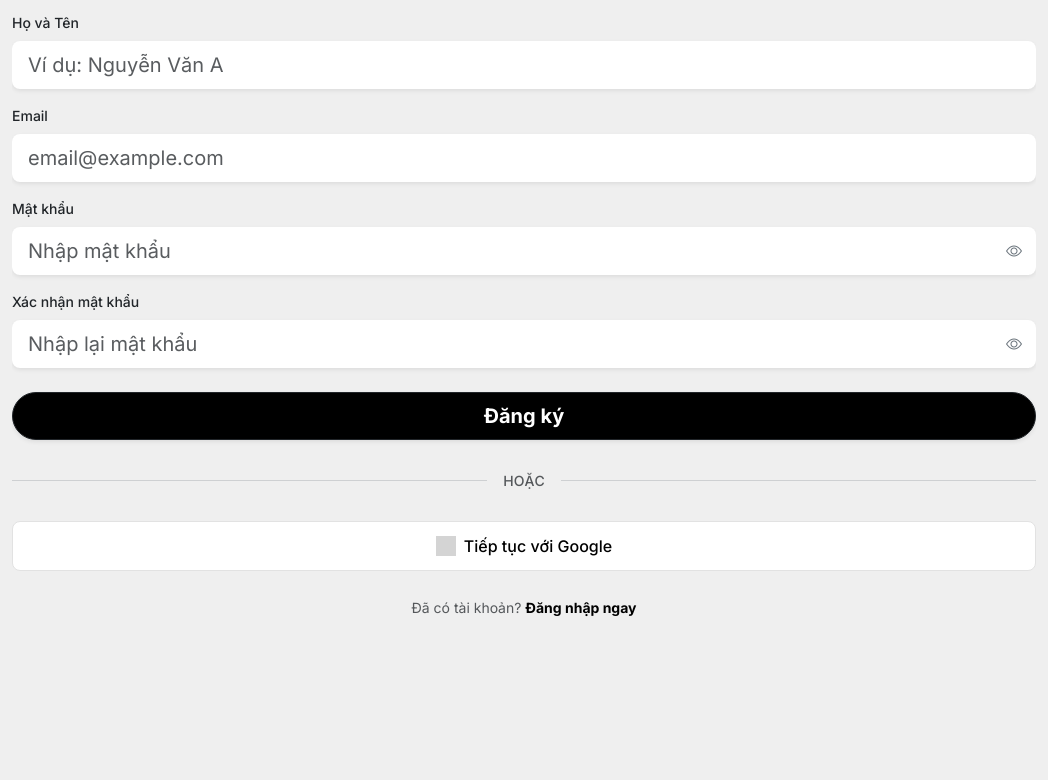
RegisterForm Component › validates confirm password in real-time
Type "secret123" into the password field with test id "password-input".
click(524, 251); type("secret123")  # box [12, 227, 1036, 275]
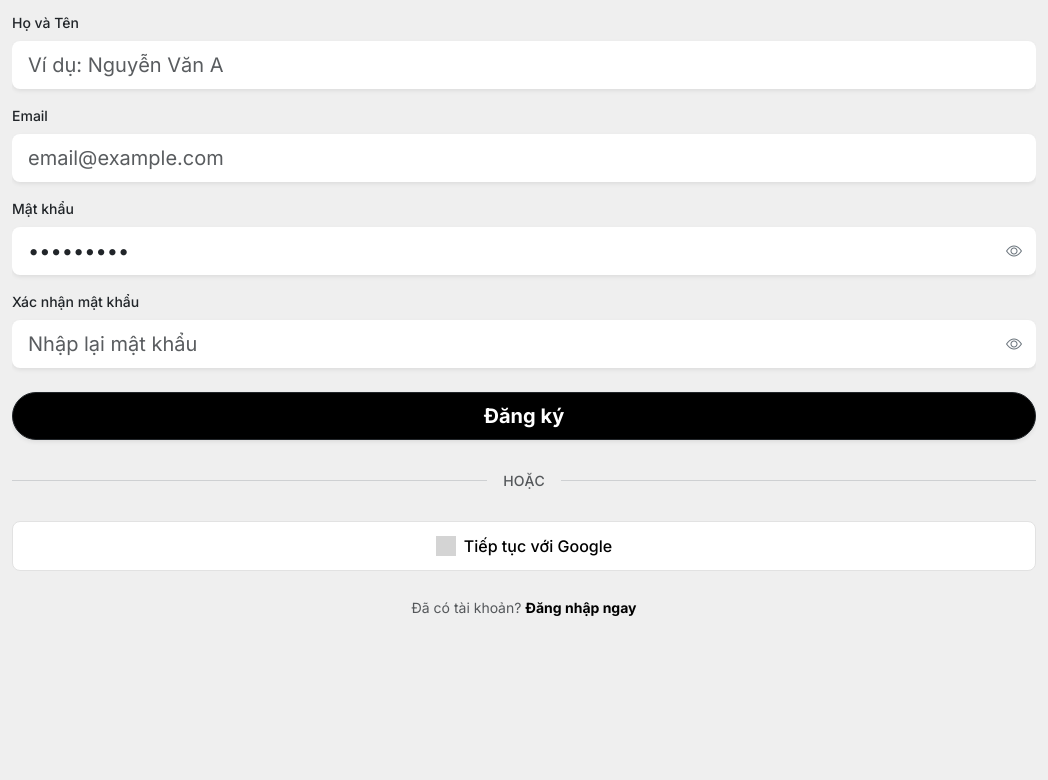
Type "secret" into the password field with test id "confirm-password-input".
click(524, 344); type("secret")  # box [12, 320, 1036, 368]
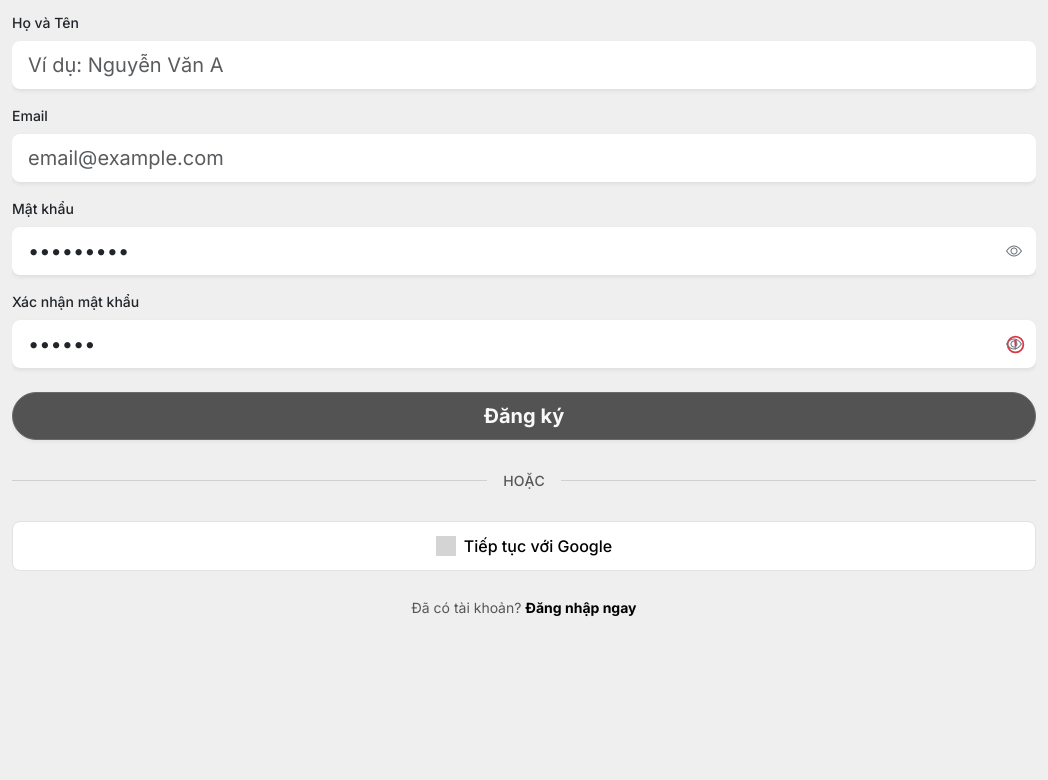
Expected: the button with test id "submit-btn" is disabled, [12, 392, 1036, 440]
Note: Fix password
Type "secret123" into the password field with test id "confirm-password-input".
click(524, 344); type("secret123")  # box [12, 320, 1036, 368]
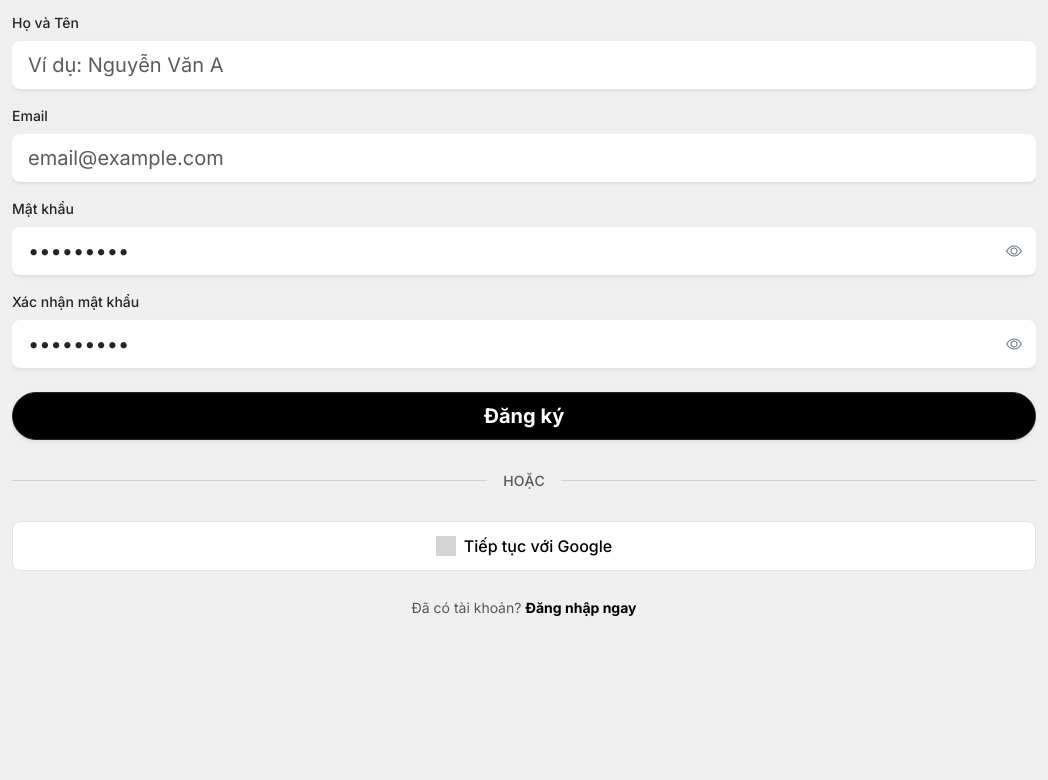
Expected: the button with test id "submit-btn" is enabled, [12, 392, 1036, 440]
